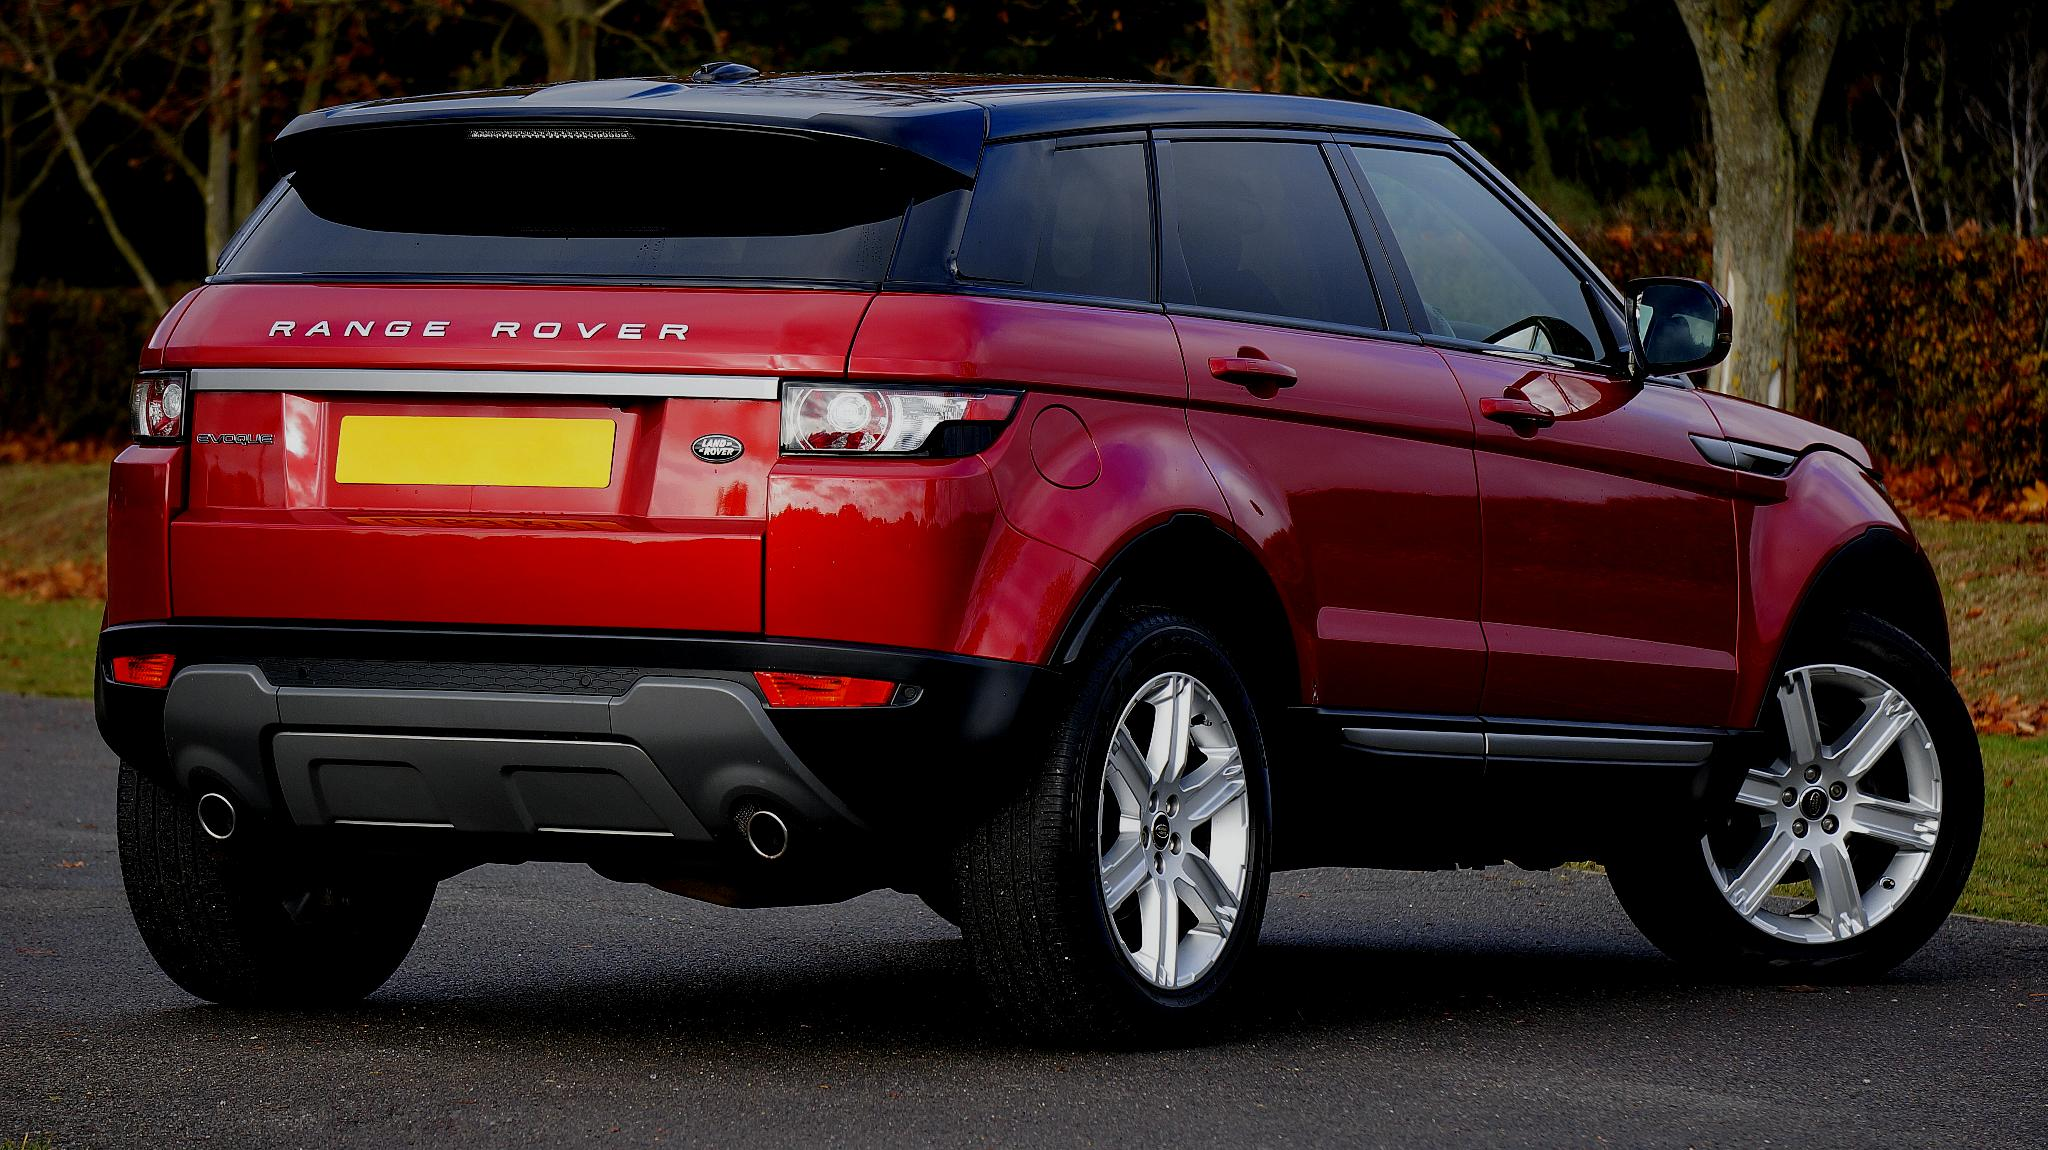range rover: (250, 298, 724, 364)
